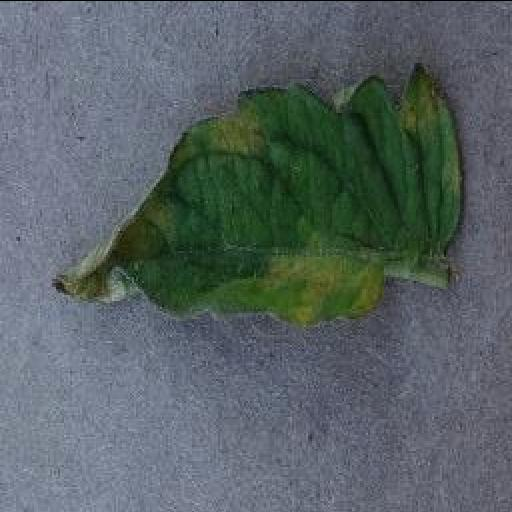disease_tomato: (50, 66, 470, 320)
